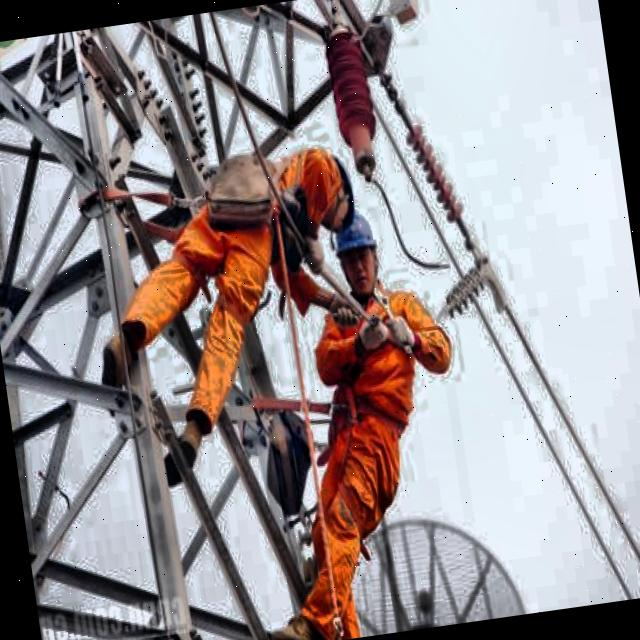helmet: (328, 194, 393, 306), (294, 146, 354, 232)
